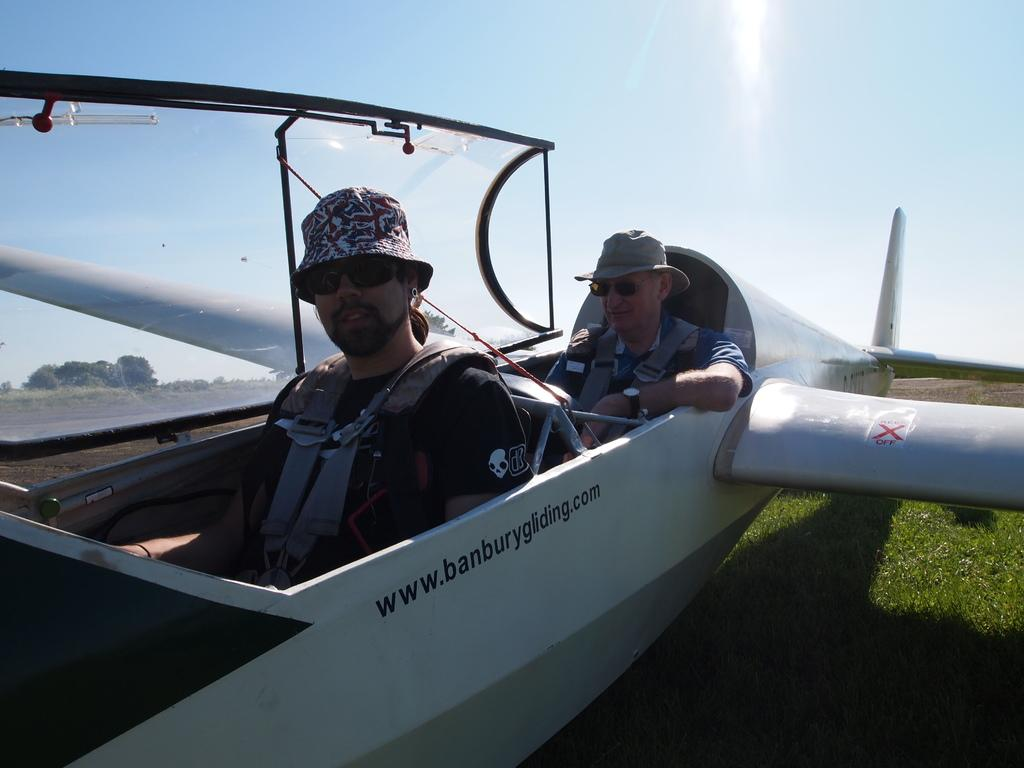Hat: (288, 184, 432, 298), (574, 226, 688, 294)
